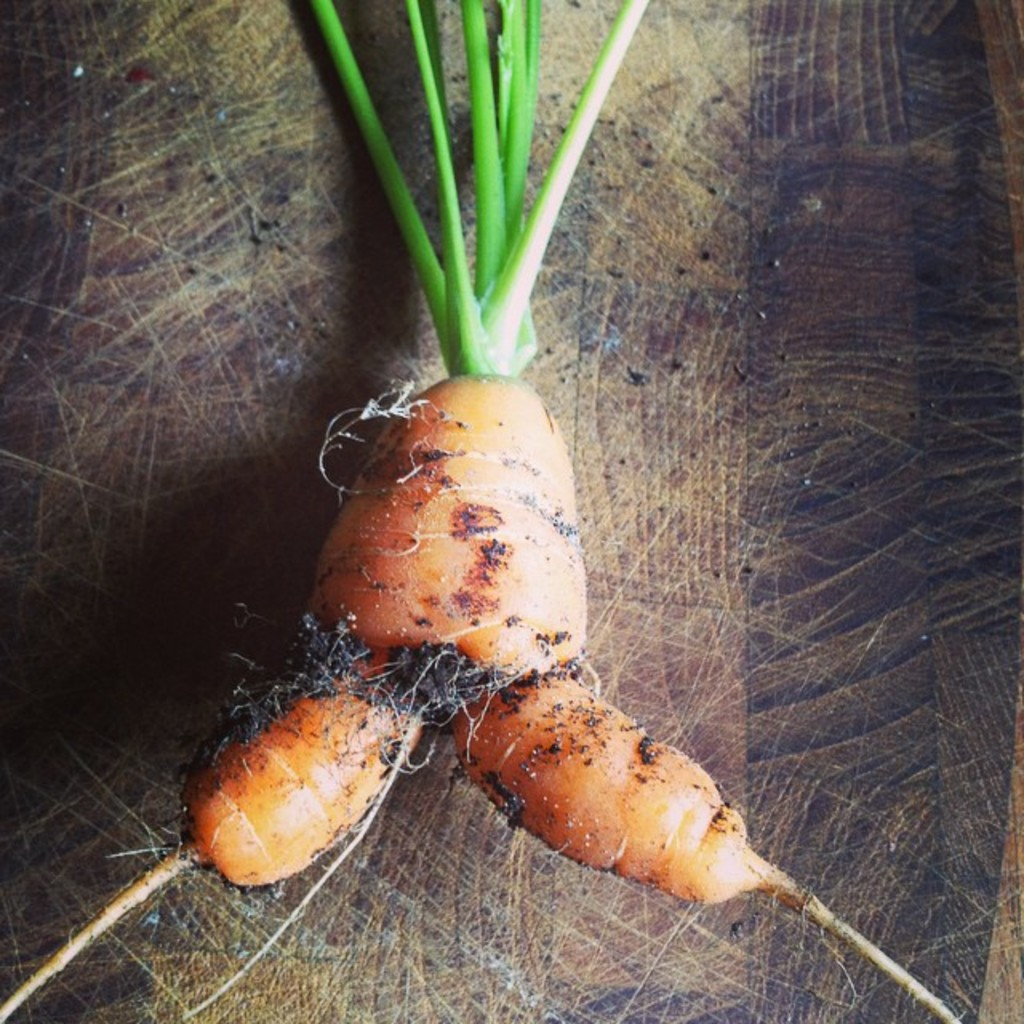Carrot: (0, 373, 963, 1024)
